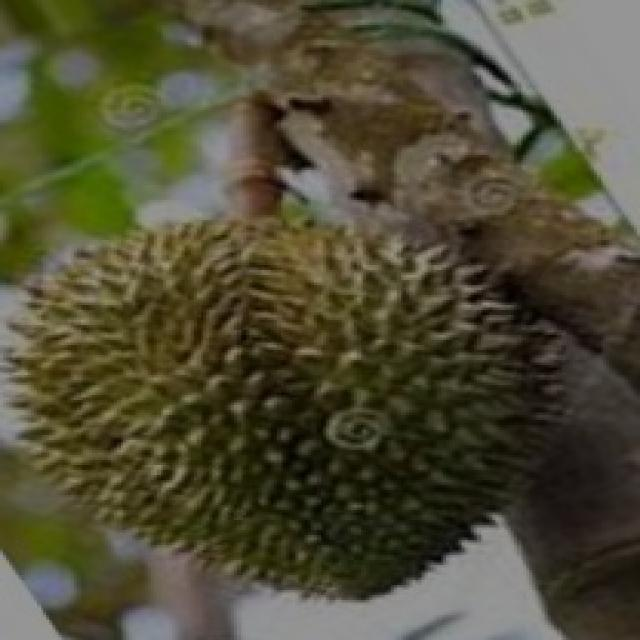fruit: (219, 180, 603, 635), (0, 198, 363, 630)
